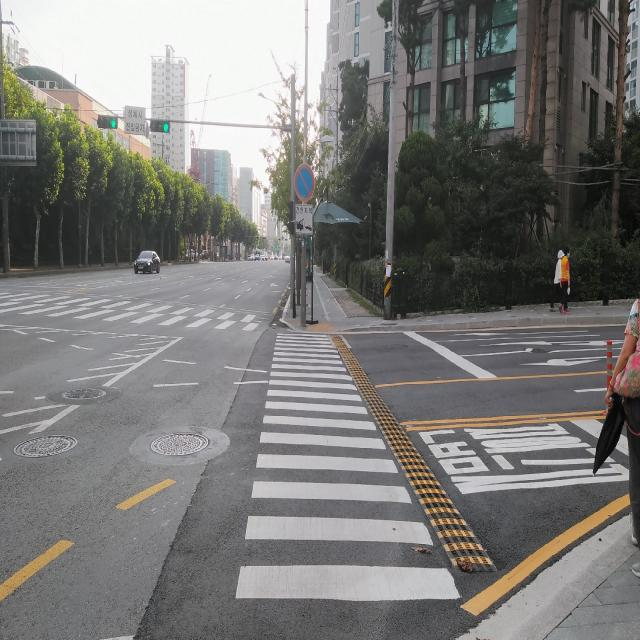횡단보도: (236, 334, 461, 600)
